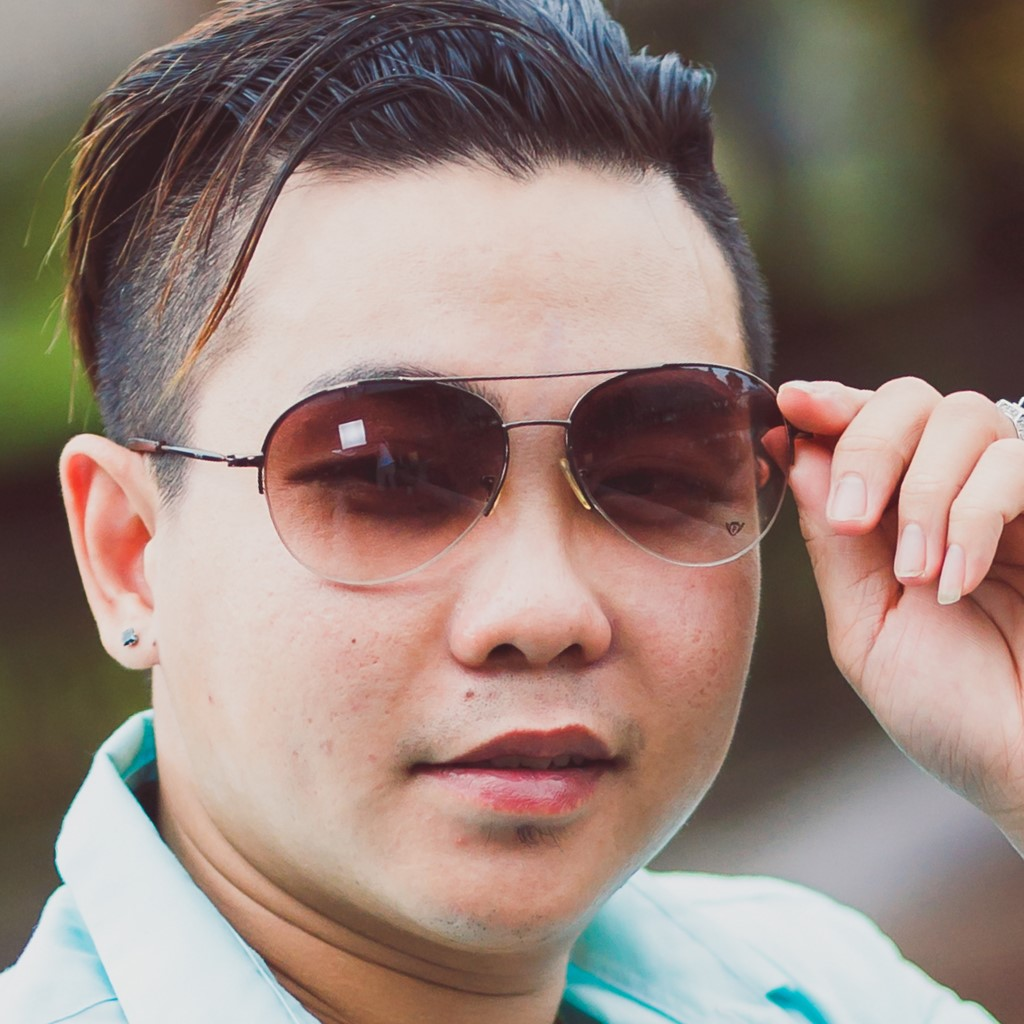sin_mascara: (131, 89, 769, 971)
